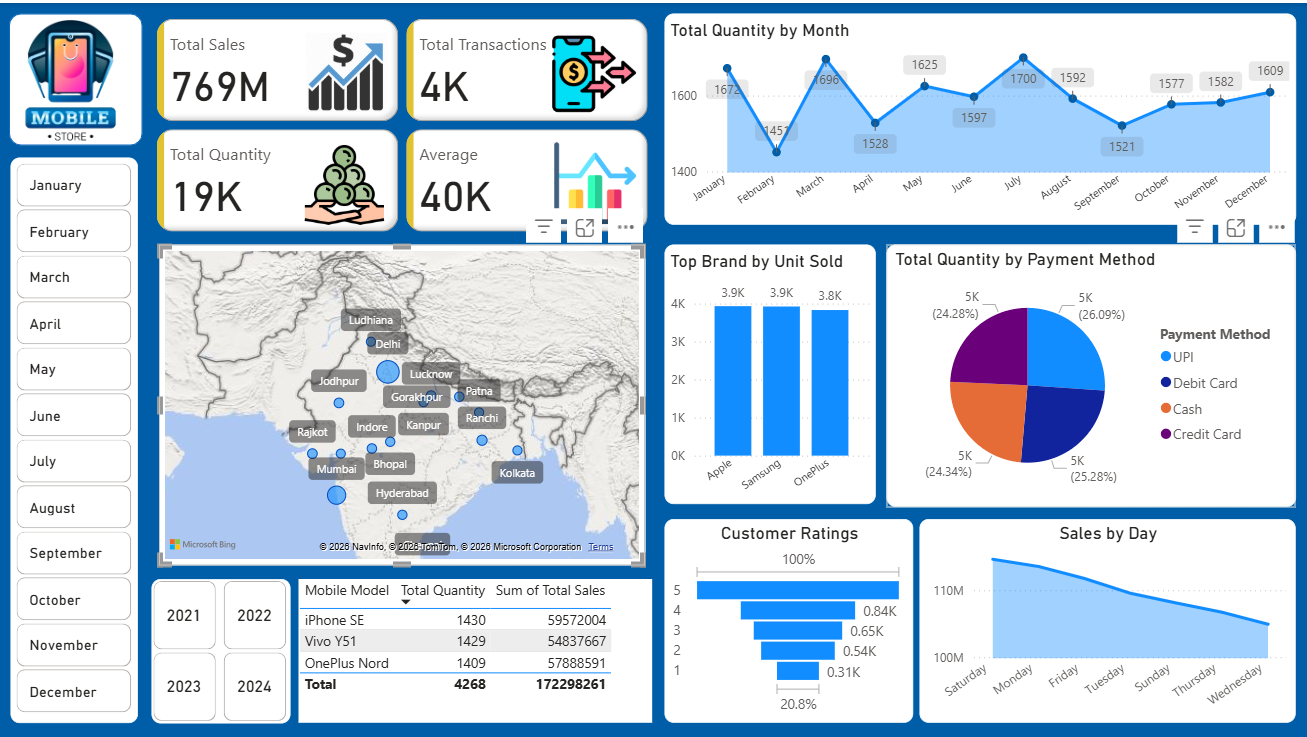

The page's visual inventory and layout, read from the dashboard file:
{"tool":"powerbi","page":{"name":"Page 1","canvas":[1280,720],"ordinal":0},"visuals":[{"type":"shape","box":[8.8,10.3,130.6,129.1],"z":0},{"type":"lineChart","fields":{"Y":["Sales Data.Total Quantity"],"Category":["Sales Data.Date.Variation.Date Hierarchy.Month","Sales Data.Date.Variation.Date Hierarchy.Day"]},"box":[650.6,10.3,617.8,206.9],"z":1000},{"type":"cardVisual","fields":{"Data":["Sum(Sales Data.Total Sales)","Sales Data.total trangaction","Sales Data.Total Quantity","Sales Data.Average"]},"box":[148.1,10.5,490.3,218.4],"z":2000},{"type":"map","fields":{"Category":["Sales Data.City"],"Size":["Sum(Sales Data.Total Sales)"]},"box":[155,236.3,476,314],"z":3000},{"type":"columnChart","title":"Top Brand by Unit Sold","fields":{"Y":["Sum(Sales Data.Units Sold)"],"Category":["Sales Data.Brand"]},"box":[650.6,236.3,206.9,253.9],"z":4000},{"type":"pieChart","fields":{"Y":["Sales Data.Total Quantity"],"Category":["Sales Data.Payment Method"]},"box":[867.7,236.3,400.6,256.8],"z":5000},{"type":"funnel","title":"Customer Ratings","fields":{"Category":["Sales Data.Customer Ratings"],"Y":["CountNonNull(Sales Data.Customer Ratings)"]},"box":[650.6,504.8,243.6,199.6],"z":6000},{"type":"stackedAreaChart","title":"Sales by Day","fields":{"Category":["Sales Data.Day Name.1"],"Y":["Sum(Sales Data.Total Sales)"]},"box":[900,504.8,368.3,199.6],"z":7000},{"type":"advancedSlicerVisual","fields":{"Values":["Sales Data.Date.Variation.Date Hierarchy.Month"]},"box":[10.3,151.1,124.7,553.2],"z":8000},{"type":"tableEx","fields":{"Values":["Sales Data.Mobile Model","Sales Data.Total Quantity","Sum(Sales Data.Total Sales)"]},"box":[292,563.5,346.3,140.9],"z":9000},{"type":"advancedSlicerVisual","fields":{"Values":["Sales Data.Date.Variation.Date Hierarchy.Year"]},"box":[147.6,564,135.7,141.4],"z":10000},{"type":"image","box":[17.7,5.4,109.2,145.4],"z":11000}]}

Visuals, with their boxes in screenshot pixels (x1, y1, x2, y2), scaled from the page's 1280x720 canvas onto the 1307x737 screenshot:
shape: <region>9, 11, 142, 143</region>
lineChart - Sales Data.Total Quantity x Sales Data.Date.Variation.Date Hierarchy.Month: <region>664, 11, 1295, 222</region>
cardVisual - Sum(Sales Data.Total Sales) x Sales Data.total trangaction: <region>151, 11, 652, 234</region>
map - Sales Data.City x Sum(Sales Data.Total Sales): <region>158, 242, 644, 563</region>
"Top Brand by Unit Sold" columnChart: <region>664, 242, 876, 502</region>
pieChart - Sales Data.Total Quantity x Sales Data.Payment Method: <region>886, 242, 1295, 505</region>
"Customer Ratings" funnel: <region>664, 517, 913, 721</region>
"Sales by Day" stackedAreaChart: <region>919, 517, 1295, 721</region>
advancedSlicerVisual - Sales Data.Date.Variation.Date Hierarchy.Month: <region>11, 155, 138, 721</region>
tableEx - Sales Data.Mobile Model x Sales Data.Total Quantity: <region>298, 577, 652, 721</region>
advancedSlicerVisual - Sales Data.Date.Variation.Date Hierarchy.Year: <region>151, 577, 289, 722</region>
image: <region>18, 6, 130, 154</region>
